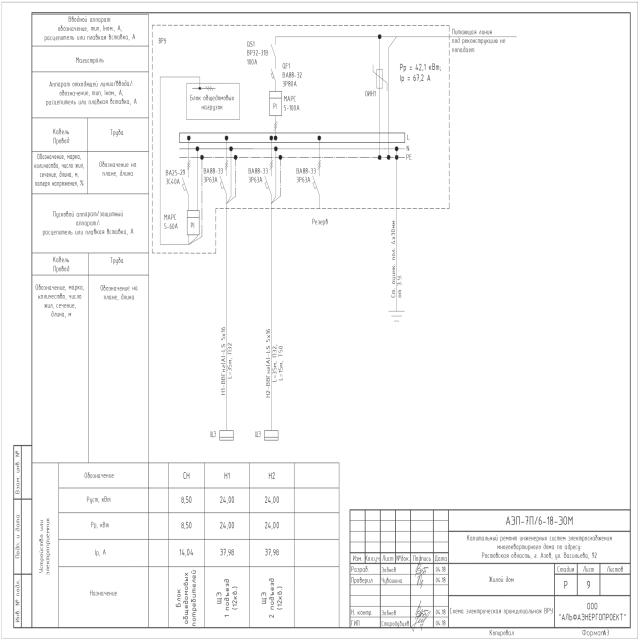-: (280, 70, 304, 88), (294, 166, 316, 184), (246, 166, 268, 184), (163, 169, 186, 186), (202, 167, 224, 184), (246, 50, 268, 66), (162, 214, 180, 232), (283, 94, 299, 112), (364, 88, 376, 98), (157, 36, 167, 46)
FV: (372, 62, 388, 92)
QF: (218, 168, 228, 194), (312, 170, 321, 196), (264, 170, 273, 195), (269, 62, 278, 87), (182, 172, 190, 198)
QS: (270, 38, 278, 58)
WH: (268, 90, 282, 118), (187, 209, 200, 237)
